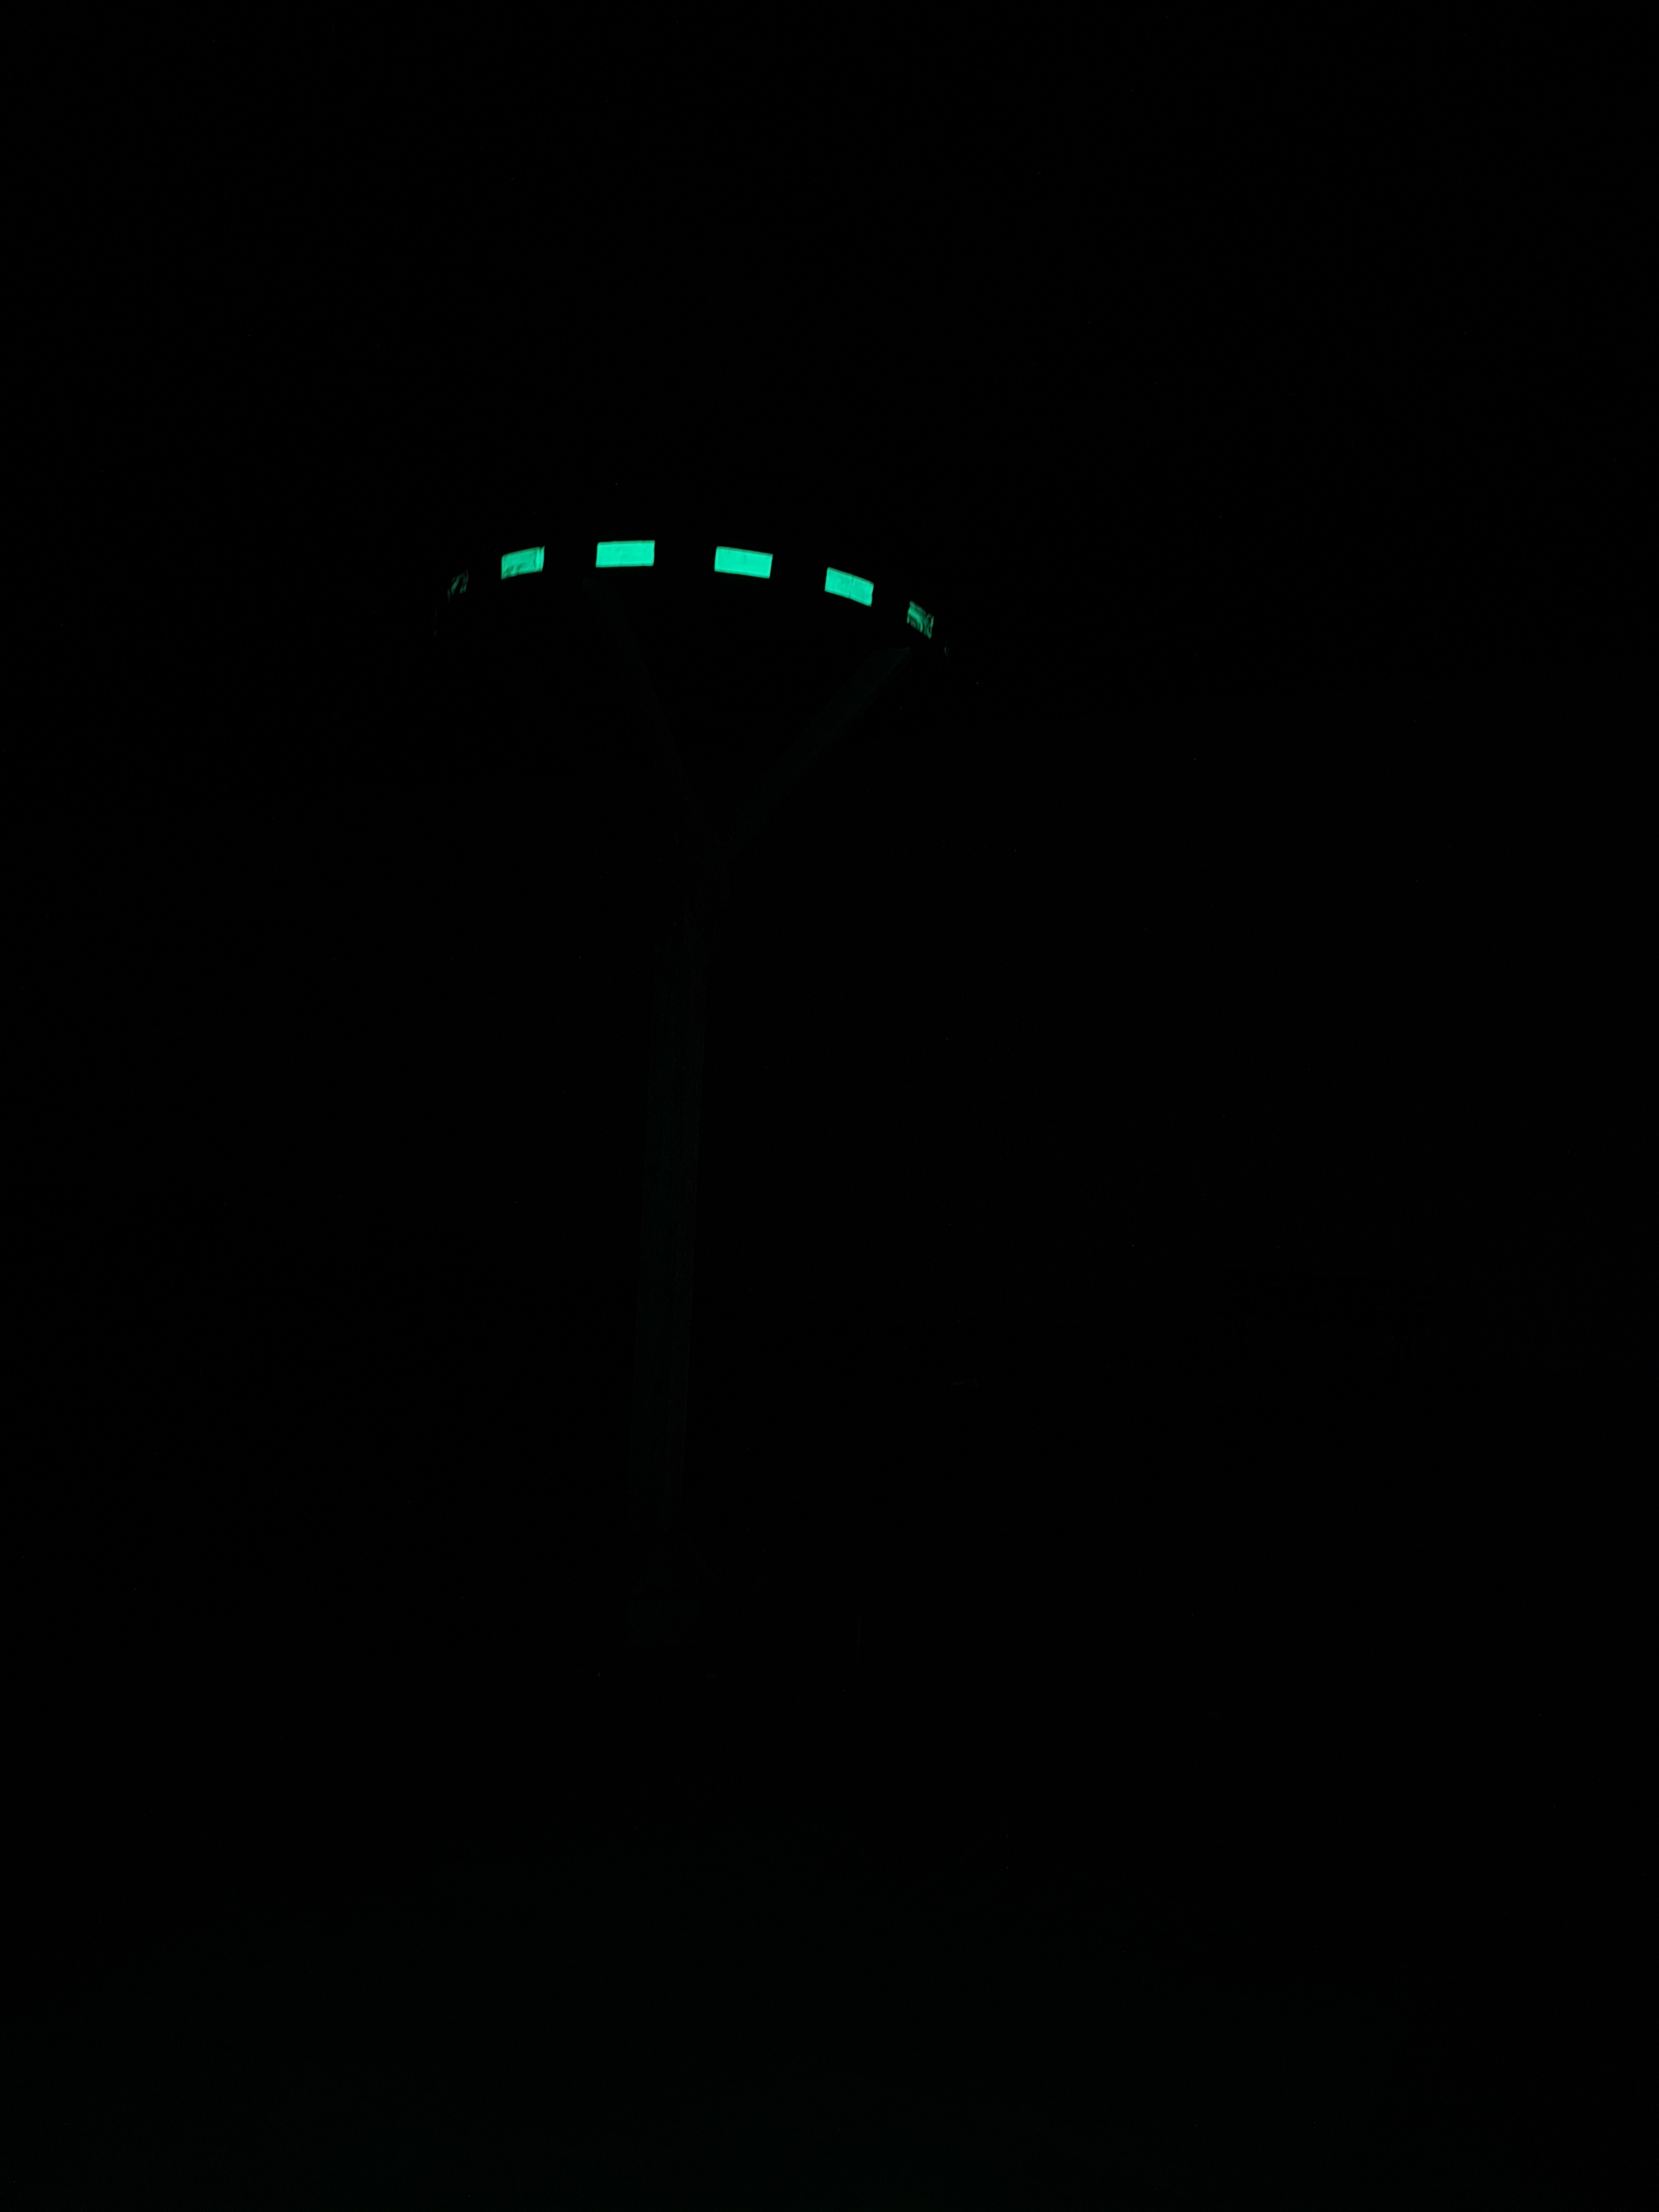hoop: (427, 529, 958, 655)
